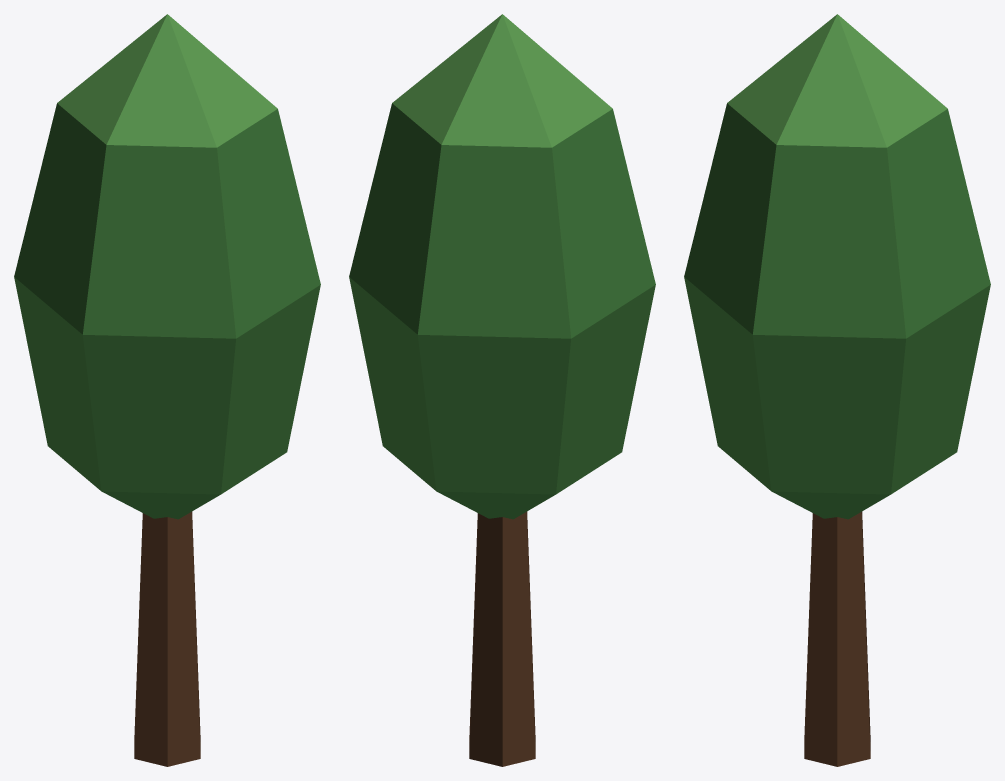
Rendered from tree_small_dark.glb.
The picture shows the model from 3 angles, left to right: view 1: azimuth 30°, elevation 25°; view 2: azimuth 150°, elevation 25°; view 3: azimuth 270°, elevation 25°; orthographic projection.
Visible parts, largest first — view 1: tree_small_dark; view 2: tree_small_dark; view 3: tree_small_dark.
Boxes of the visible parts, x1,y1,x2,y2 form: tree_small_dark: (14, 14, 320, 766); tree_small_dark: (349, 14, 655, 766); tree_small_dark: (684, 14, 990, 766).
Bounding box in the file's own units: 0.322 × 0.9519 × 0.3593.
1 material, 1 textured.
